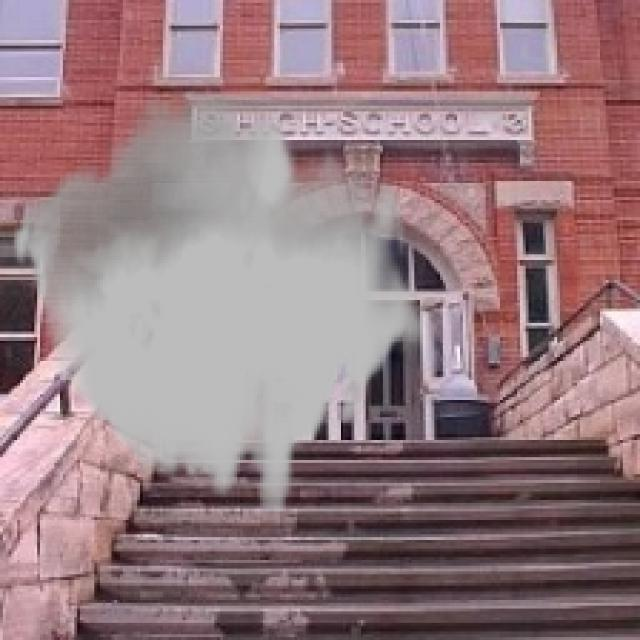smoke: (11, 91, 426, 512)
